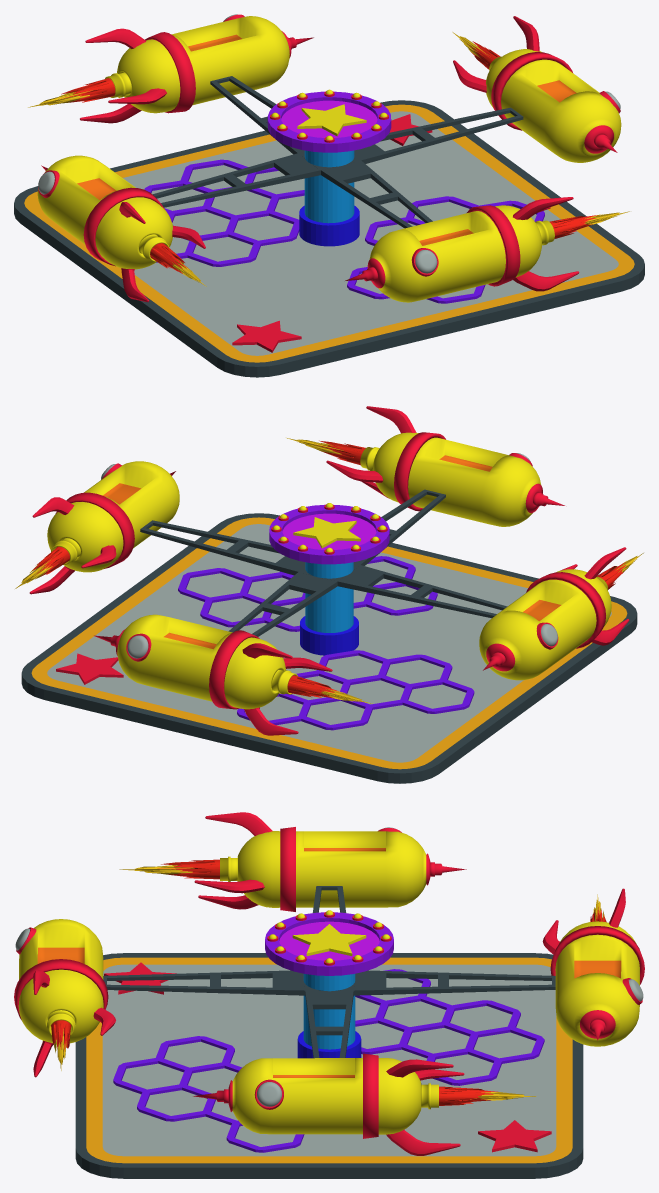
Rendered from RocketToy.fbx.
The picture shows the model from 3 angles, top to bottom: view 1: azimuth 30°, elevation 25°; view 2: azimuth 150°, elevation 25°; view 3: azimuth 270°, elevation 25°; orthographic projection. The views are drawn at different scales.
Visible parts, largest first — view 1: Plane, Rocket.003; view 2: Plane, Rocket.003; view 3: Plane, Rocket.003.
Boxes of the visible parts, box(x1,y1,x2,y2) form: Plane: box(14, 89, 644, 377); Rocket.003: box(28, 14, 629, 302); Plane: box(21, 503, 637, 783); Rocket.003: box(15, 406, 643, 735); Plane: box(75, 910, 583, 1178); Rocket.003: box(14, 812, 644, 1155).
Bounding box in the file's own units: 652 × 156 × 652.
Materials: 2 (2 with a texture image).
